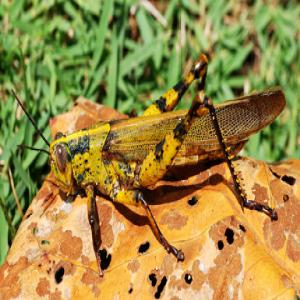locust: (28, 55, 296, 235)
